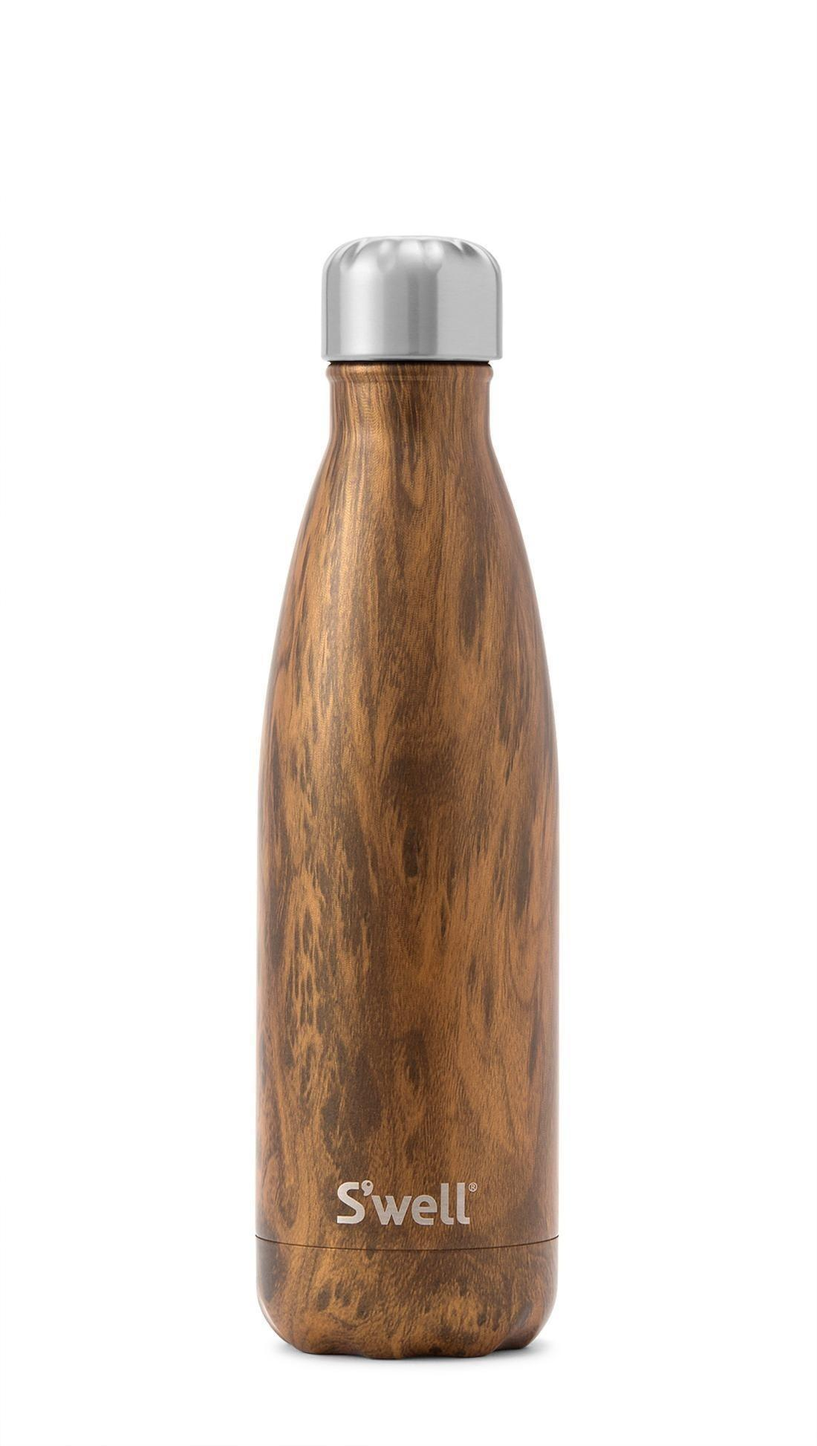gym bottle: (240, 220, 578, 1377)
